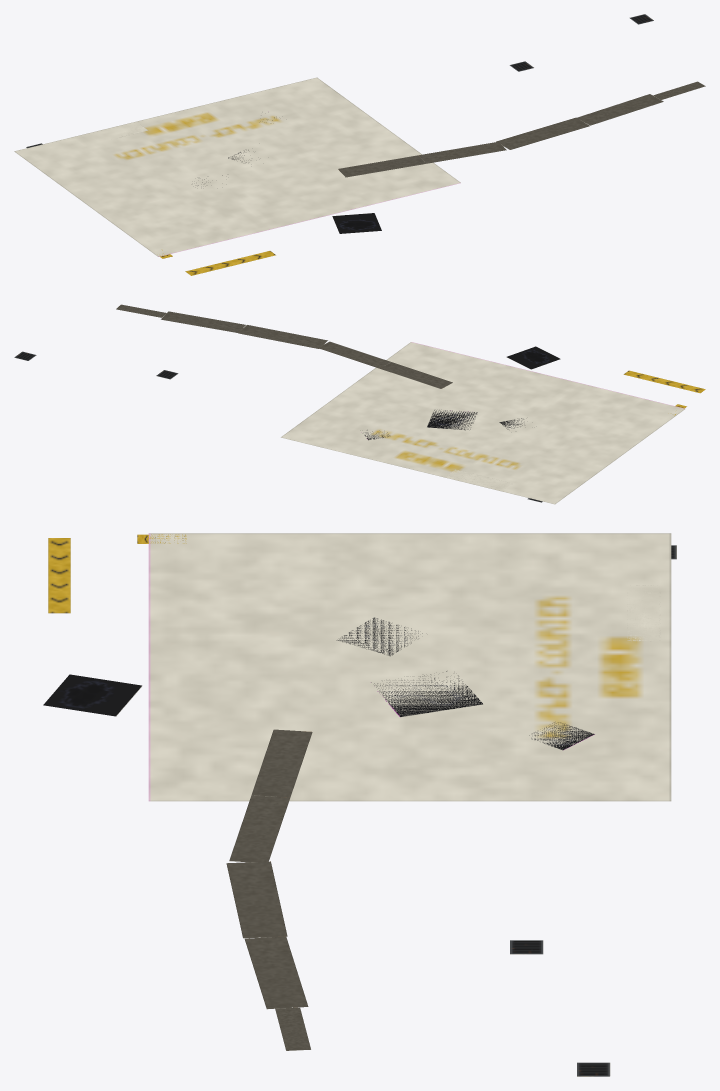
File: DeckDecals.fbx
3 renders of one model, top to bottom at view 1: azimuth 30°, elevation 25°; view 2: azimuth 150°, elevation 25°; view 3: azimuth 270°, elevation 25°, orthographic. The views are drawn at different scales.
Visible parts, largest first — view 1: DeckDecals; view 2: DeckDecals; view 3: DeckDecals.
Boxes of the visible parts, box(x1,y1,x2,y2) form: DeckDecals: box(14, 14, 705, 275); DeckDecals: box(14, 304, 705, 504); DeckDecals: box(43, 533, 676, 1076).
Bounding box in the file's own units: 23.1 × 0.007 × 11.4.
